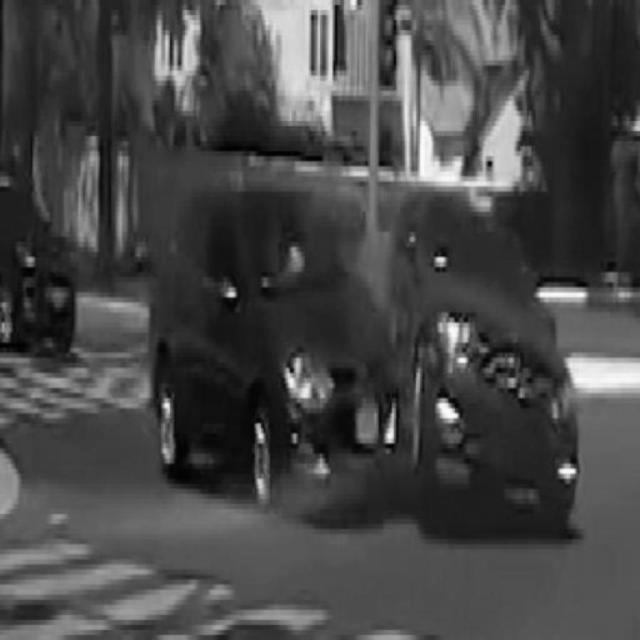accident: (151, 188, 582, 526)
